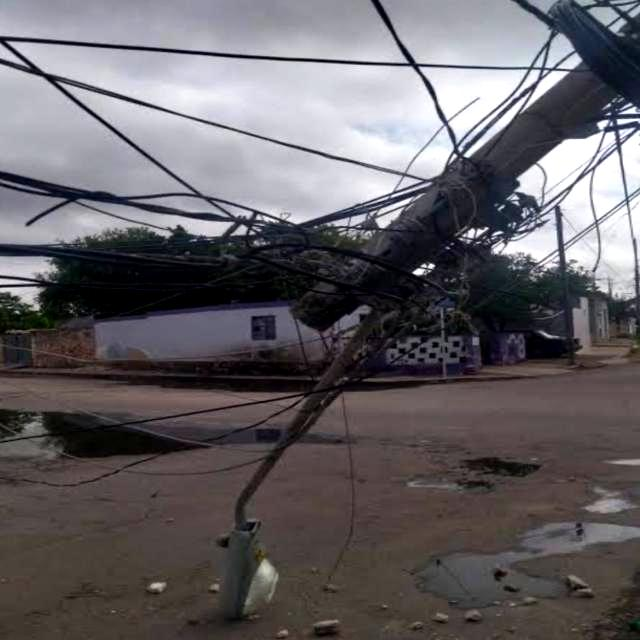Broken Pole: (218, 0, 640, 628)
